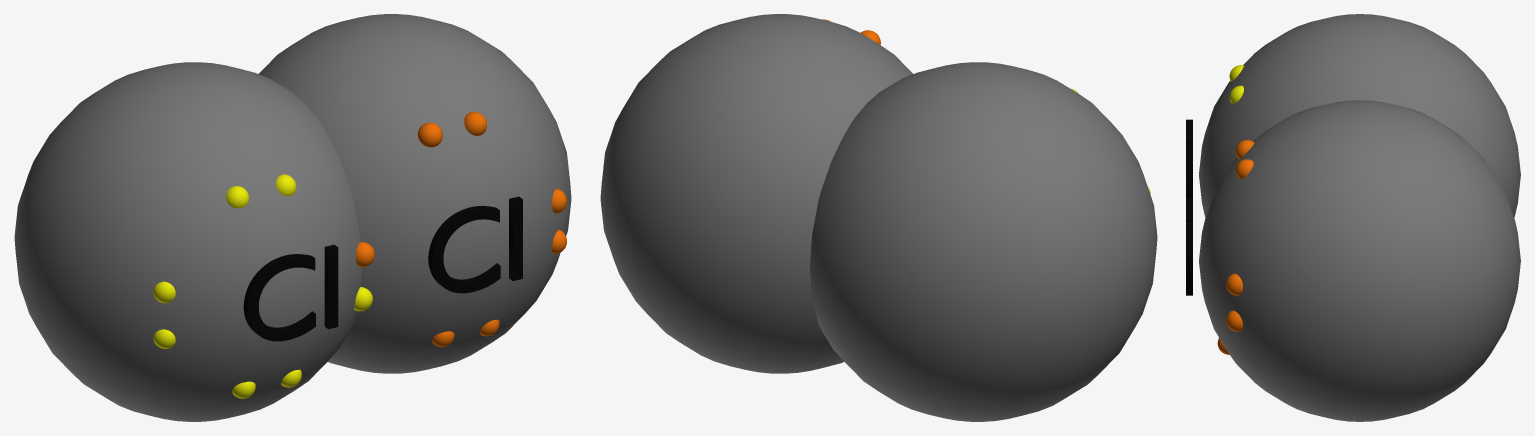
The picture shows the model from 3 angles, left to right: view 1: azimuth 30°, elevation 25°; view 2: azimuth 150°, elevation 25°; view 3: azimuth 270°, elevation 25°; orthographic projection. The views are drawn at different scales.
Visible parts, largest first — view 1: Sphere.015, Sphere.014, Text, Text.001, Sphere.008; view 2: Sphere.015, Sphere.014; view 3: Sphere.014, Sphere.015, Text.001, Text.
Boxes of the visible parts, left/top/right/bottom form: Sphere.015: left=14, top=62, right=361, bottom=421; Sphere.014: left=259, top=14, right=571, bottom=373; Text: left=243, top=244, right=338, bottom=341; Text.001: left=428, top=196, right=522, bottom=293; Sphere.008: left=418, top=122, right=442, bottom=147; Sphere.015: left=810, top=62, right=1157, bottom=421; Sphere.014: left=600, top=14, right=912, bottom=373; Sphere.014: left=1199, top=100, right=1520, bottom=421; Sphere.015: left=1199, top=14, right=1520, bottom=217; Text.001: left=1186, top=197, right=1192, bottom=295; Text: left=1186, top=119, right=1192, bottom=197.
Bounding box in the file's own units: 4.57 × 2.8 × 2.91.
